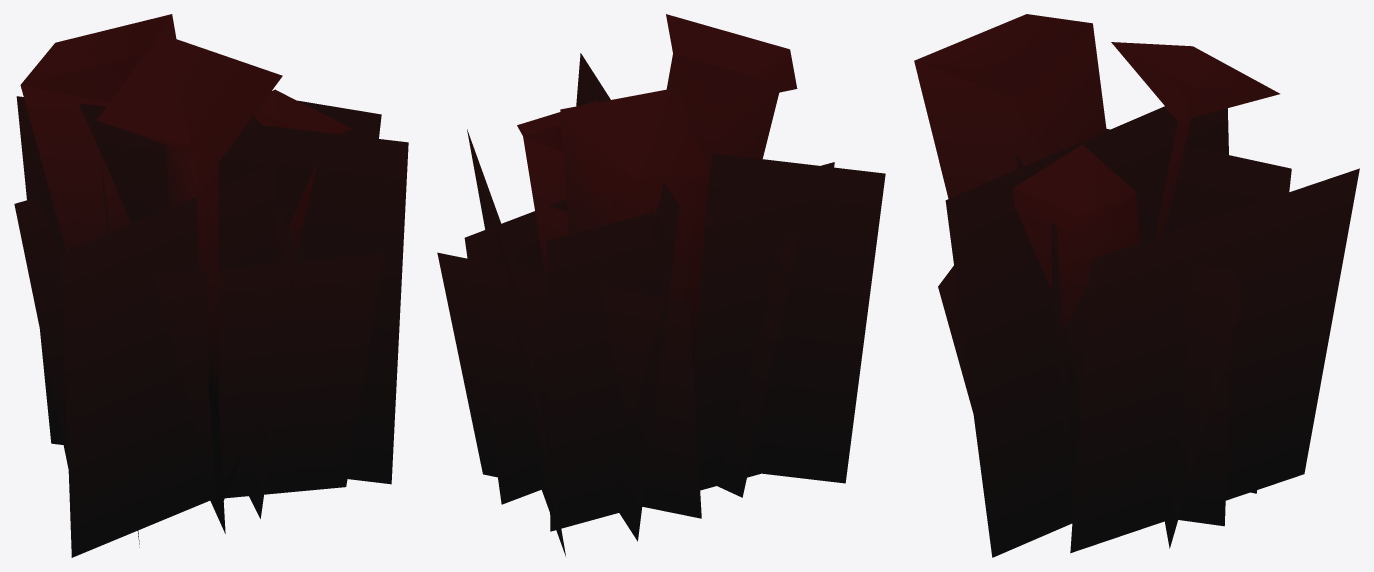
Rendered from TFD_Flowers_Patch_01B.fbx.
3 views of the same model, side by side, from view 1: azimuth 30°, elevation 25°; view 2: azimuth 150°, elevation 25°; view 3: azimuth 270°, elevation 25° (orthographic). The views are drawn at different scales.
Visible parts, largest first — view 1: TFD_Flowers_Patch_01B_LOD0; view 2: TFD_Flowers_Patch_01B_LOD0; view 3: TFD_Flowers_Patch_01B_LOD0.
Boxes of the visible parts, <box> form: TFD_Flowers_Patch_01B_LOD0: <box>14,14,408,557</box>; TFD_Flowers_Patch_01B_LOD0: <box>437,14,885,556</box>; TFD_Flowers_Patch_01B_LOD0: <box>914,14,1359,557</box>.
Size of the model in its own units: 85.82 by 104 by 88.32.
